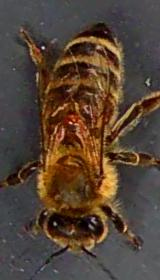varroa_mite: (52, 106, 92, 136)
